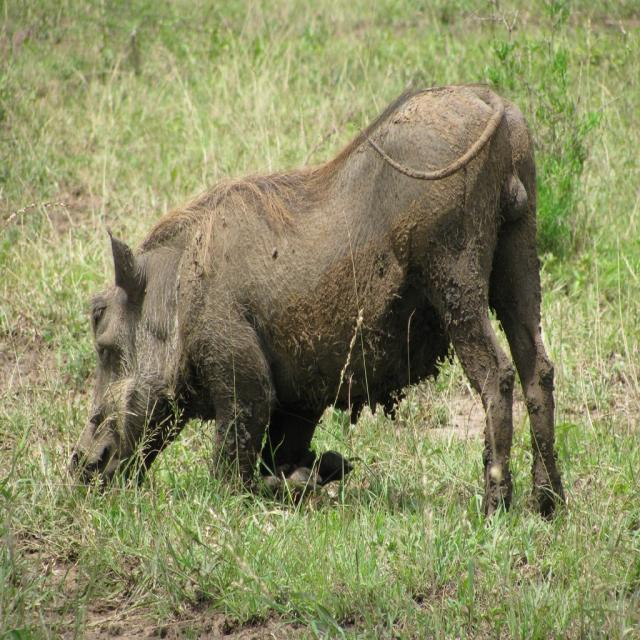Pig: (66, 70, 567, 525)
